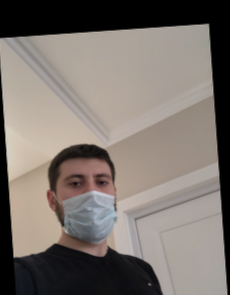with_mask: (58, 167, 117, 244)
